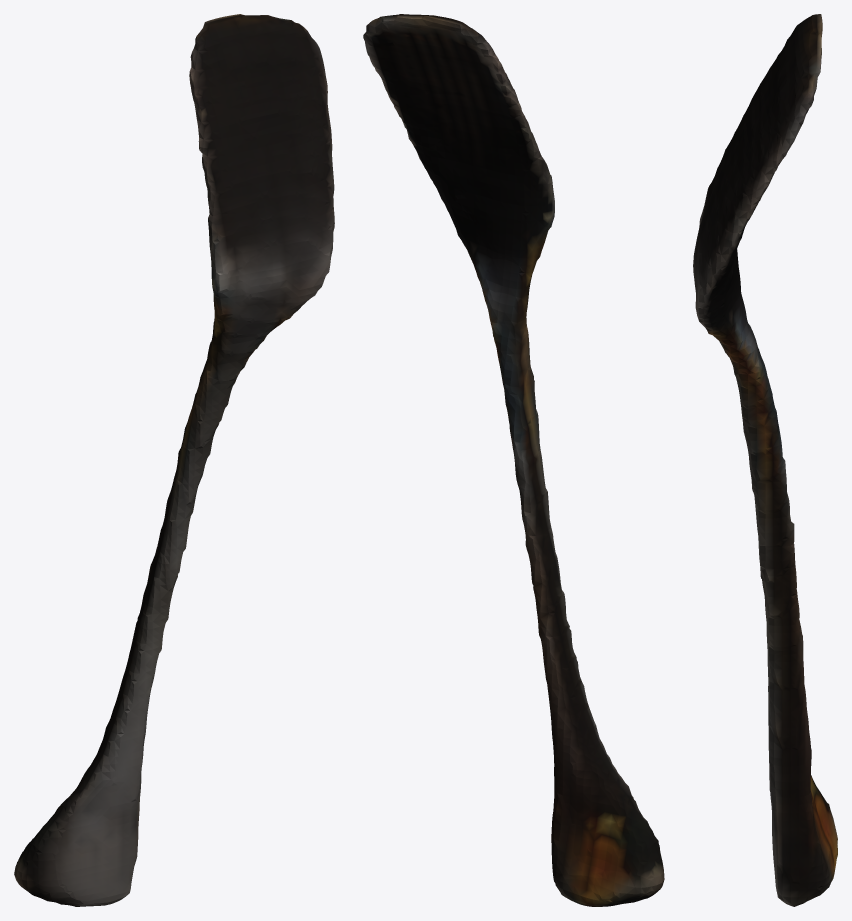
File: mesh_cutlery-fork_1.obj
3 views of the same model, side by side, from view 1: azimuth 30°, elevation 25°; view 2: azimuth 150°, elevation 25°; view 3: azimuth 270°, elevation 25° (orthographic). The views are drawn at different scales.
Size of the model in its own units: 0.7255 by 1.96 by 0.2714.
